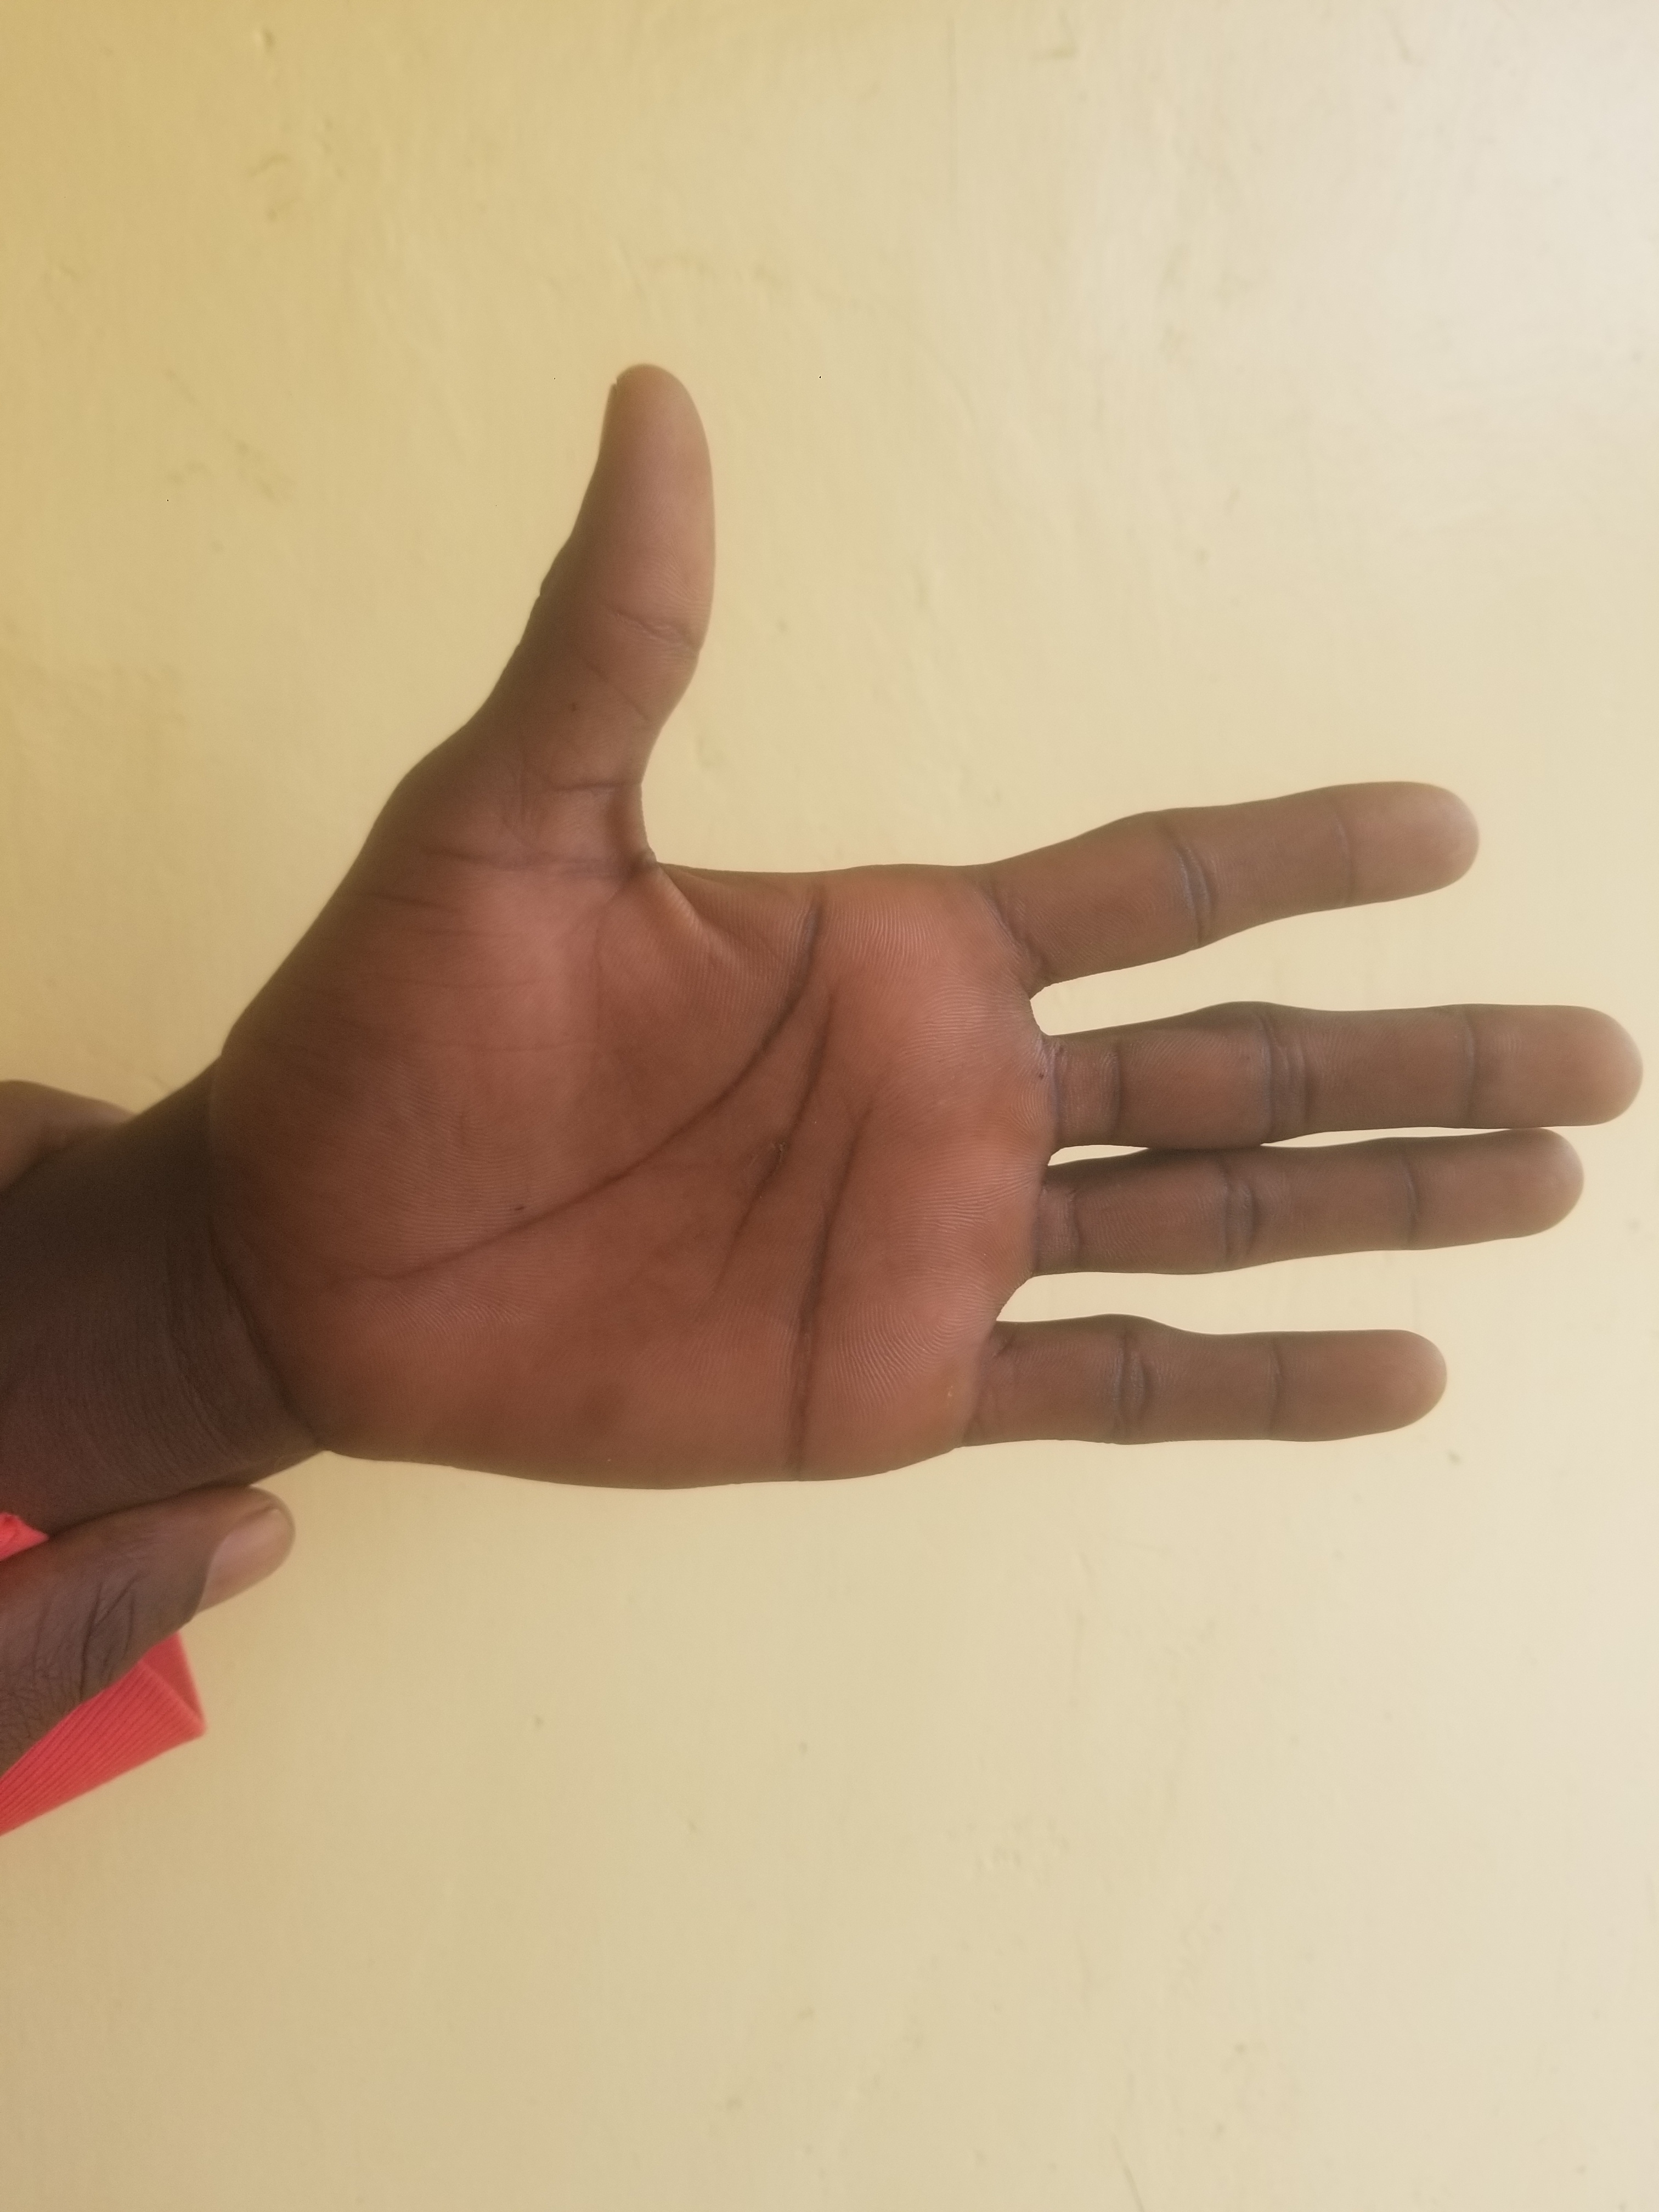open palm: (98, 307, 1654, 1975)
